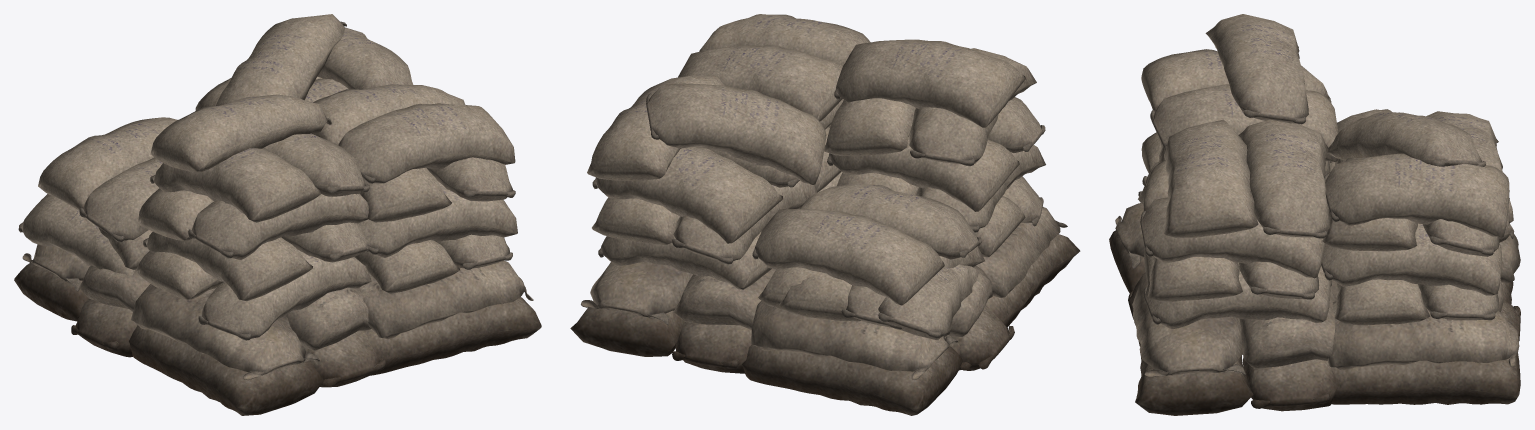
The model's file is SM_FAR_Blocker_04_Merged.fbx.
The picture shows the model from 3 angles, left to right: view 1: azimuth 30°, elevation 25°; view 2: azimuth 150°, elevation 25°; view 3: azimuth 270°, elevation 25°; orthographic projection. The views are drawn at different scales.
Parts seen in each view (by area): view 1: SM_FAR_Blocker_04_Merged.mo; view 2: SM_FAR_Blocker_04_Merged.mo; view 3: SM_FAR_Blocker_04_Merged.mo.
Boxes of the visible parts, x1,y1,x2,y2 form: SM_FAR_Blocker_04_Merged.mo: (14, 14, 541, 415); SM_FAR_Blocker_04_Merged.mo: (570, 14, 1080, 415); SM_FAR_Blocker_04_Merged.mo: (1109, 14, 1520, 415).
Bounding box in the file's own units: 141 × 103 × 135.
